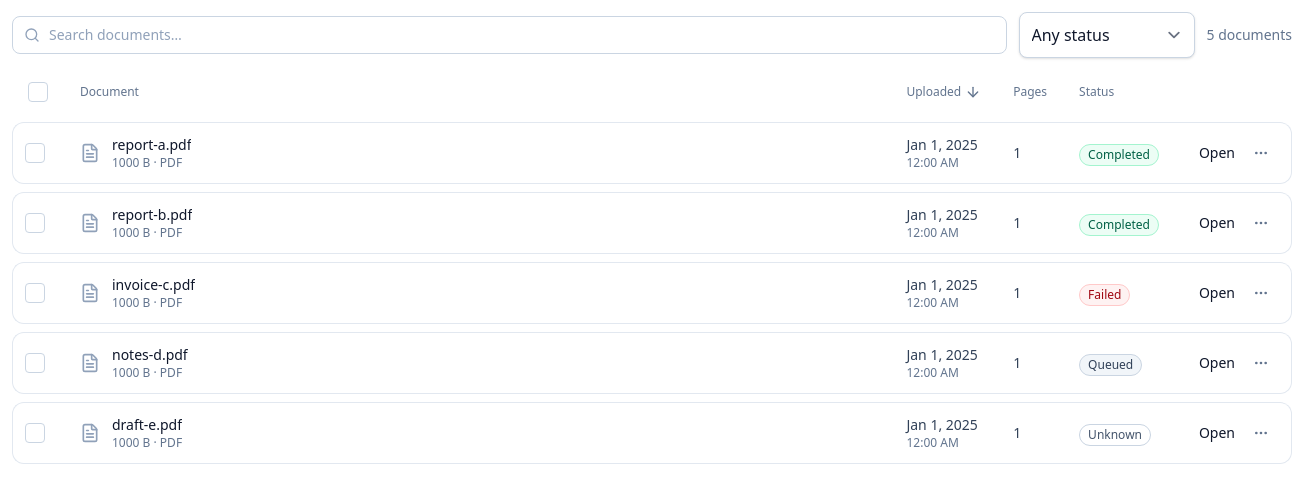
Test case: resetting to Any status shows all documents again
Select "Completed" in the dropdown named "Status" at (1106, 35), box [1018, 12, 1194, 58]
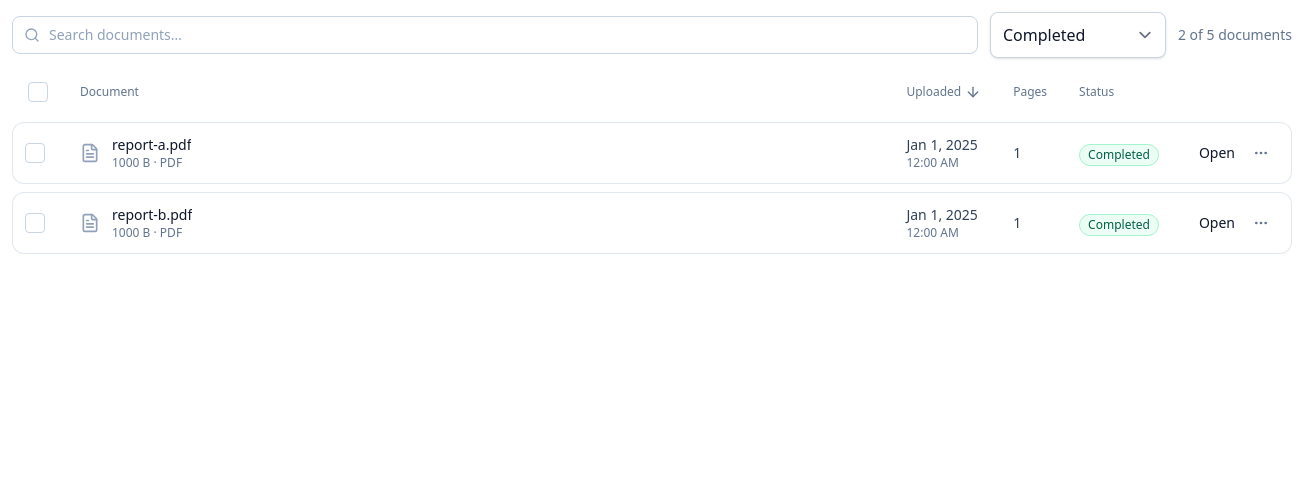
Expected: the text "2 of 5 documents" is shown, [1178, 25, 1292, 45]
Select "Any status" in the dropdown named "Status" at (1078, 35), box [990, 12, 1166, 58]
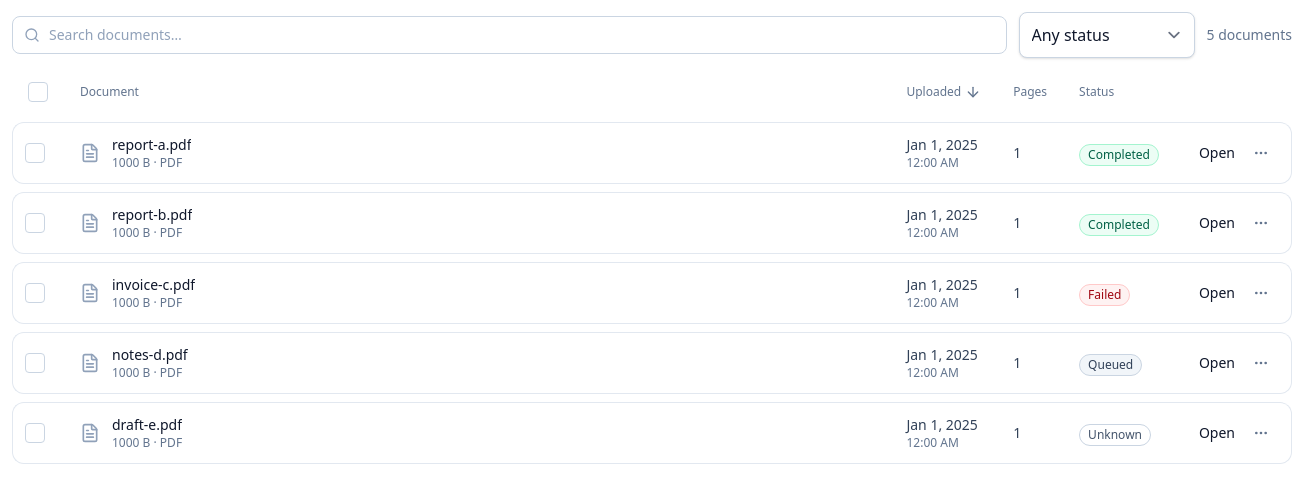
Expected: the link "invoice-c.pdf" is shown, [112, 275, 195, 295]
Expected: the link "notes-d.pdf" is shown, [112, 345, 188, 365]
Expected: the link "draft-e.pdf" is shown, [112, 415, 182, 435]
